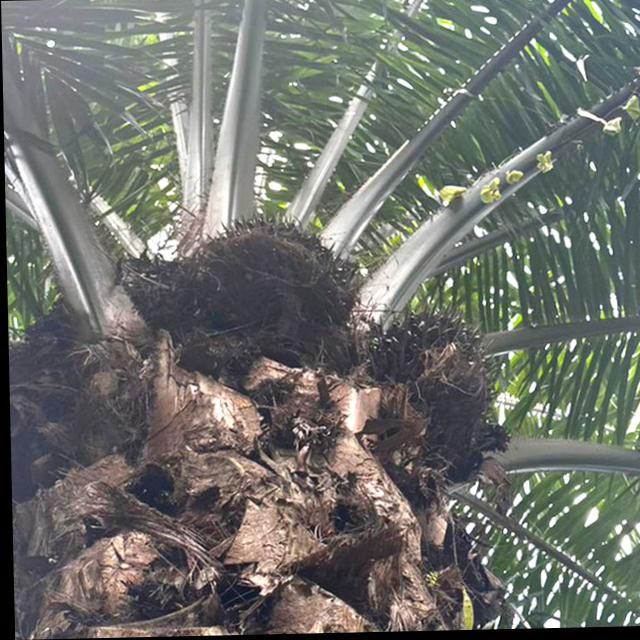unripe: (175, 208, 362, 352)
